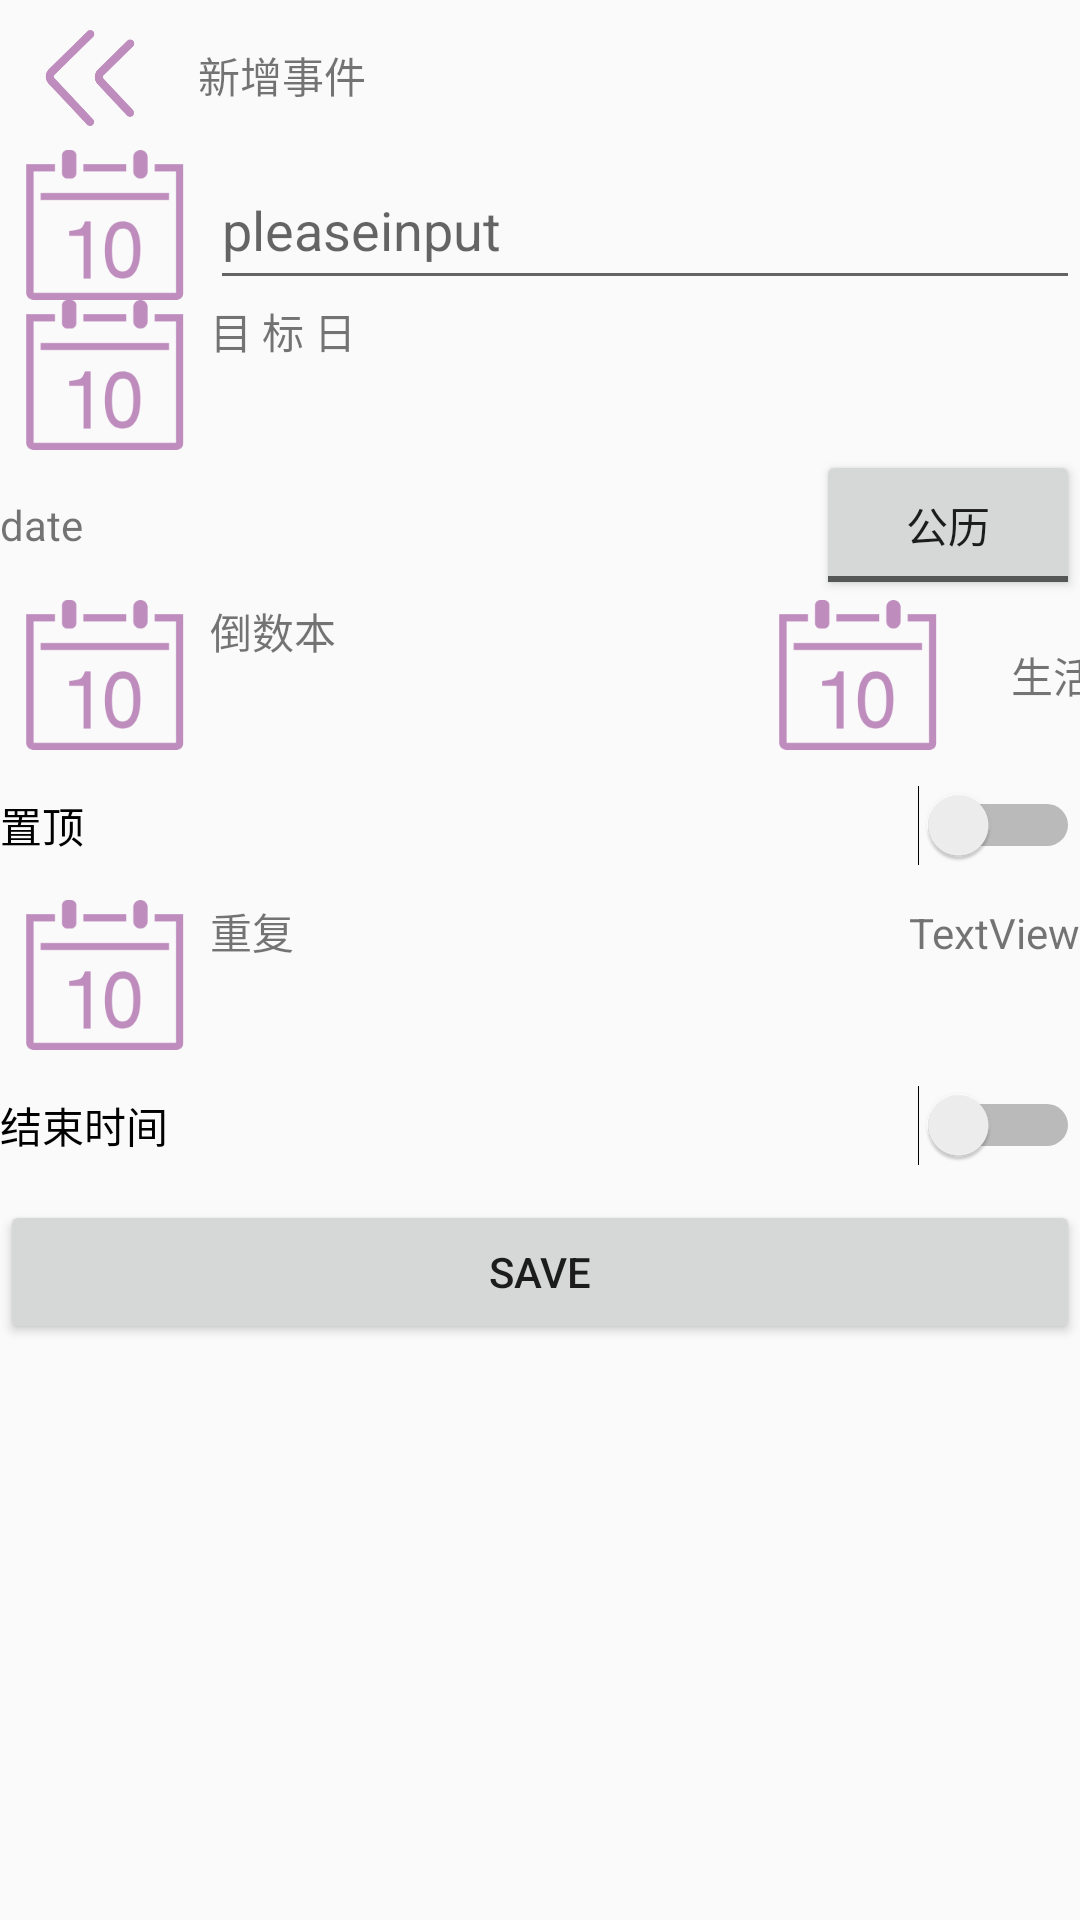

Icons on this 1080 x 1920 Android screen, each with its box as (x1, y1, x2, y2):
back: (46, 30, 134, 126)
event: (40, 150, 169, 279), (26, 314, 183, 450), (26, 600, 183, 750), (779, 600, 936, 750), (26, 900, 183, 1050)
